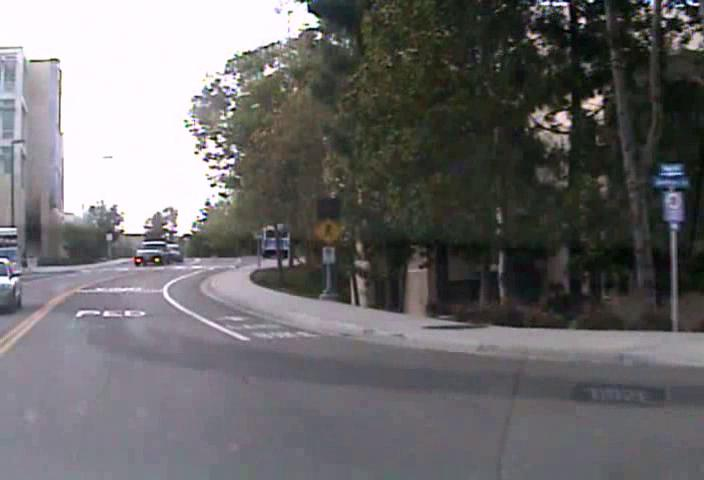pedestrianCrossing: (310, 217, 343, 245)
